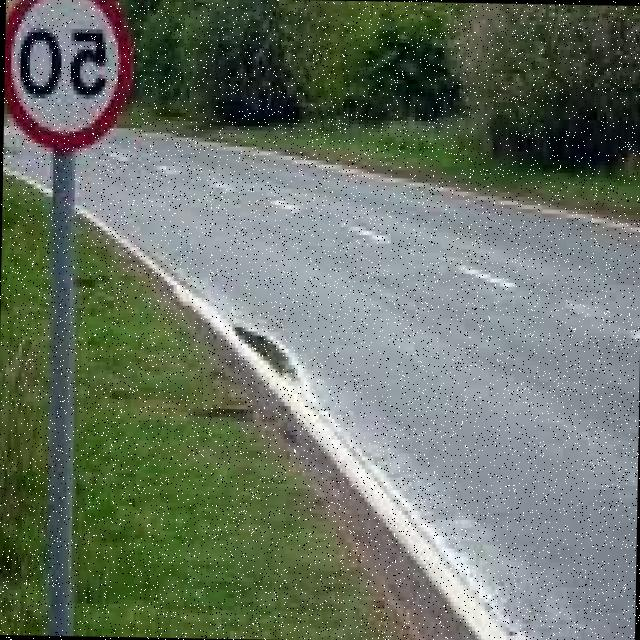speed_limit_50: (2, 0, 137, 172)
